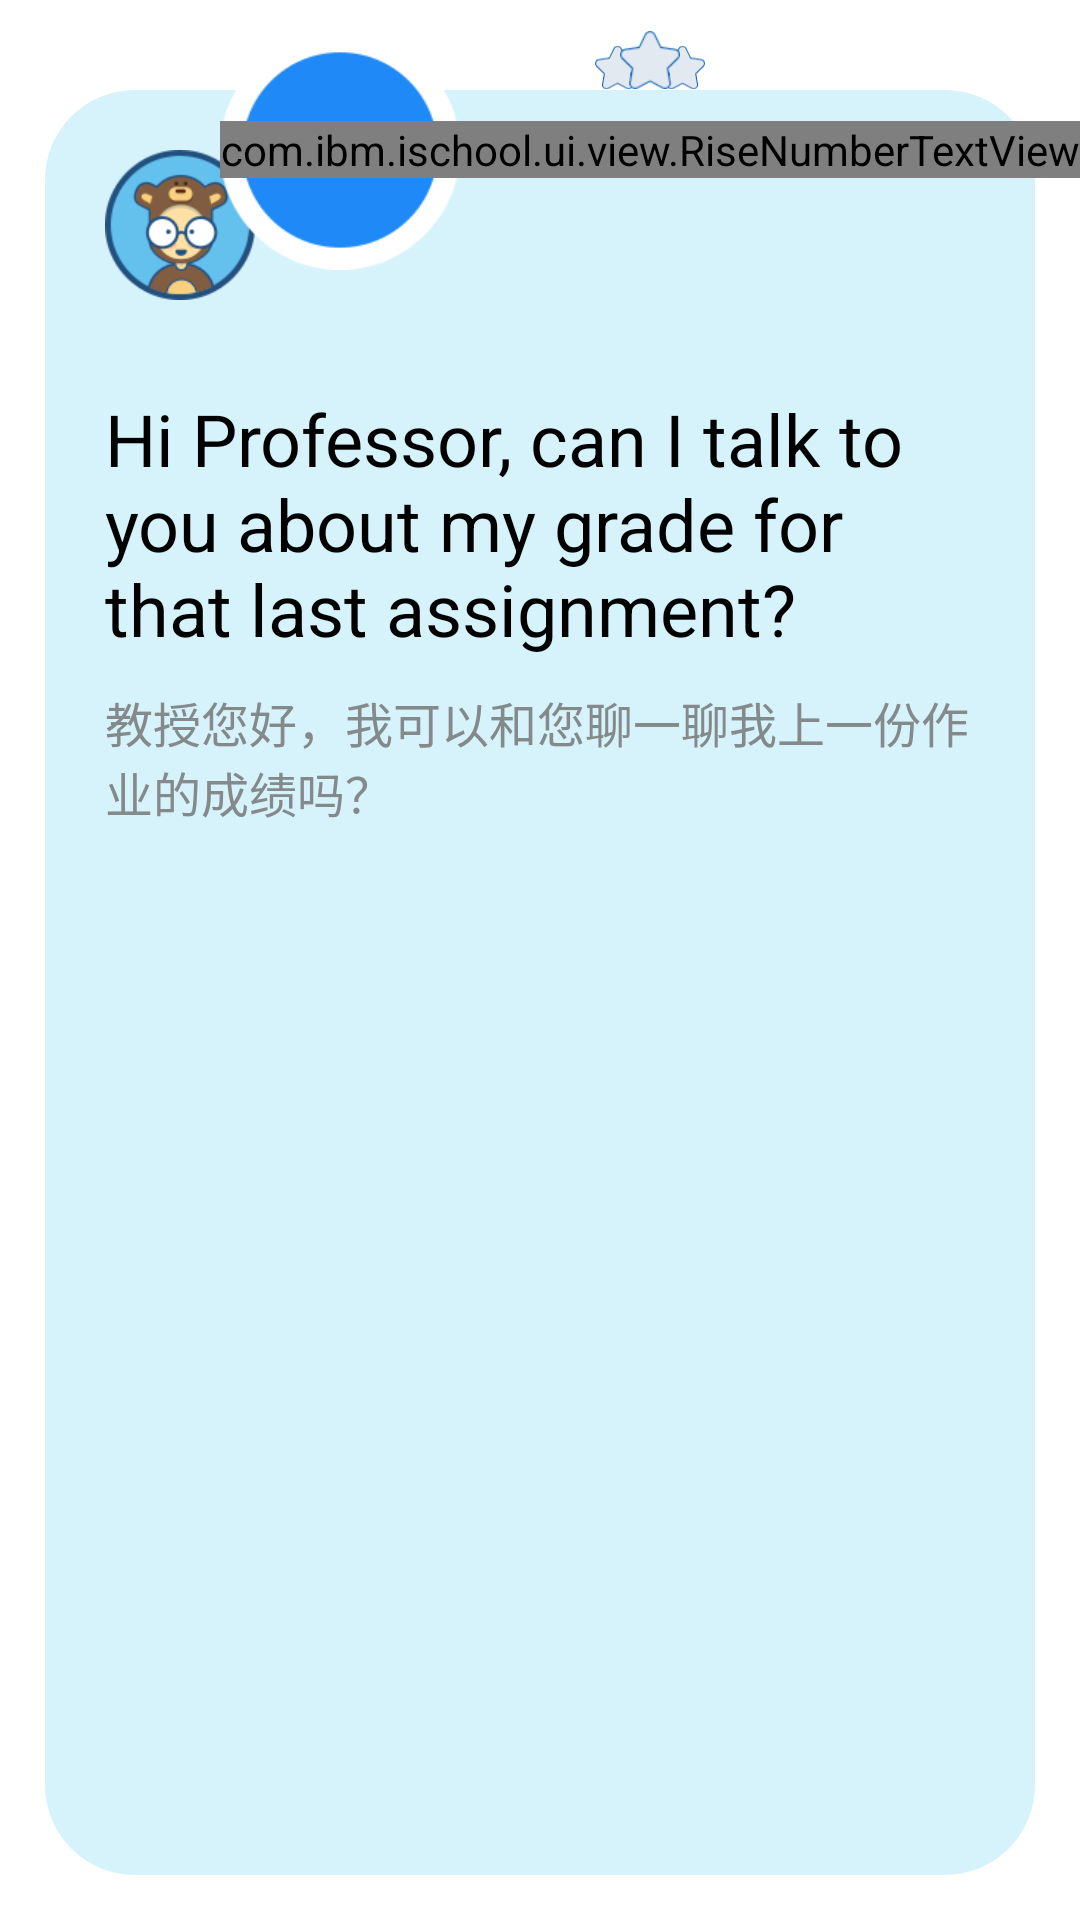

Where to tap for icons on this 1080*1920 app screen, as (x=x, y=y):
star: (x=650, y=60), (x=617, y=67), (x=682, y=67)
